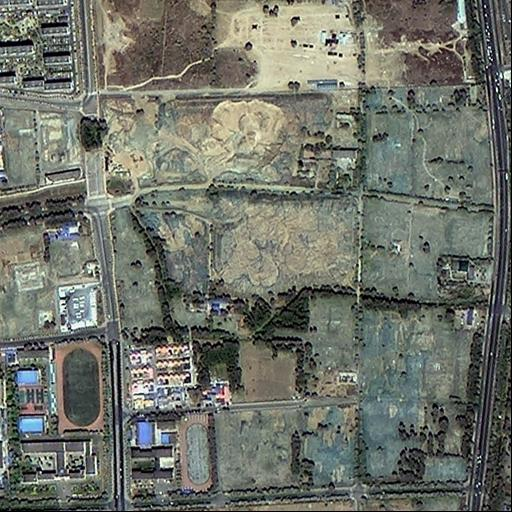school: (12, 334, 108, 491), (125, 409, 217, 504)
